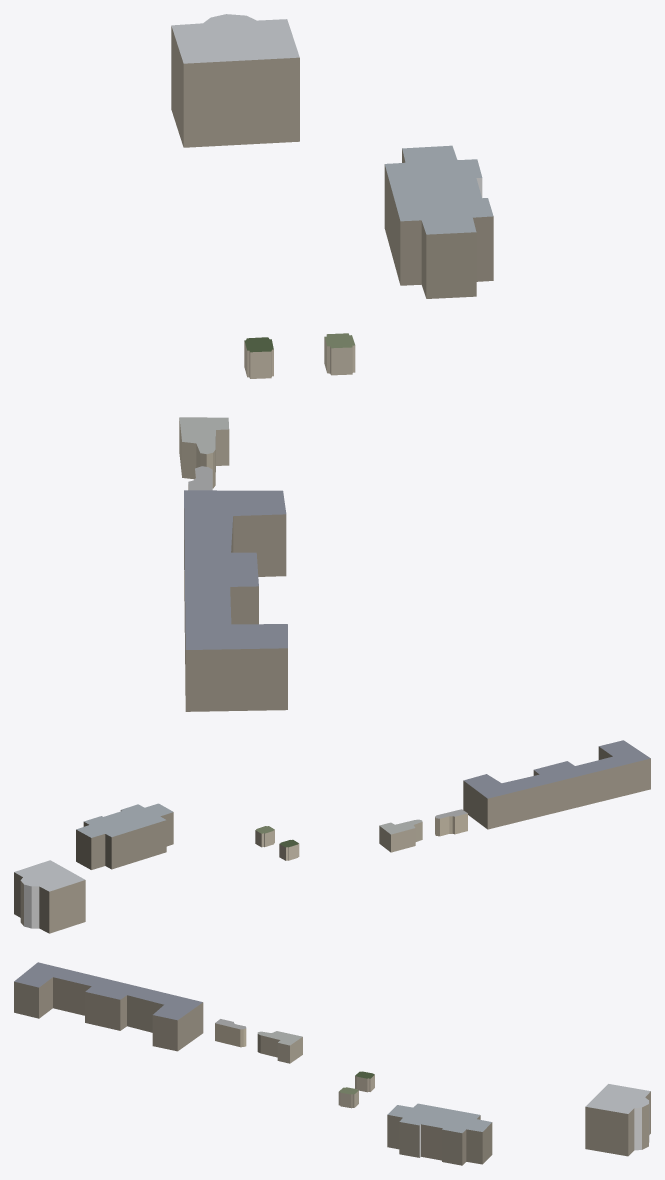
3 renders of one model, top to bottom at view 1: azimuth 30°, elevation 25°; view 2: azimuth 150°, elevation 25°; view 3: azimuth 270°, elevation 25°, orthographic. The views are drawn at different scales.
Visible parts, largest first — view 1: tuile; view 2: tuile; view 3: tuile.
Part boxes in pixels (x1,y1,x2,y2): tuile: (171,14,493,711); tuile: (14,740,650,933); tuile: (14,962,650,1165).
Bounding box in the file's own units: 135 × 17.37 × 208.
